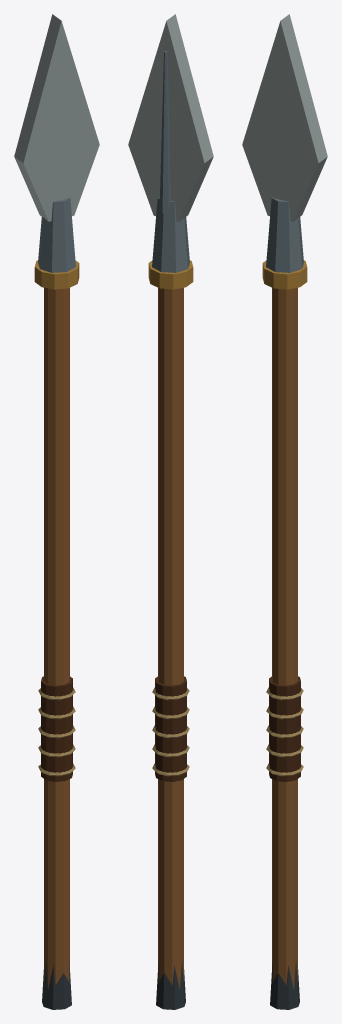
File: Spear.glb
3 renders of one model, left to right at view 1: azimuth 30°, elevation 25°; view 2: azimuth 150°, elevation 25°; view 3: azimuth 330°, elevation 25°, orthographic.
Parts seen in each view (by area): view 1: Sculpture; view 2: Sculpture; view 3: Sculpture.
Boxes of the visible parts, x1,y1,x2,y2 form: Sculpture: (14, 14, 99, 1009); Sculpture: (128, 14, 213, 1009); Sculpture: (242, 14, 327, 1009).
Size of the model in its own units: 0.21 by 2.59 by 0.108.
